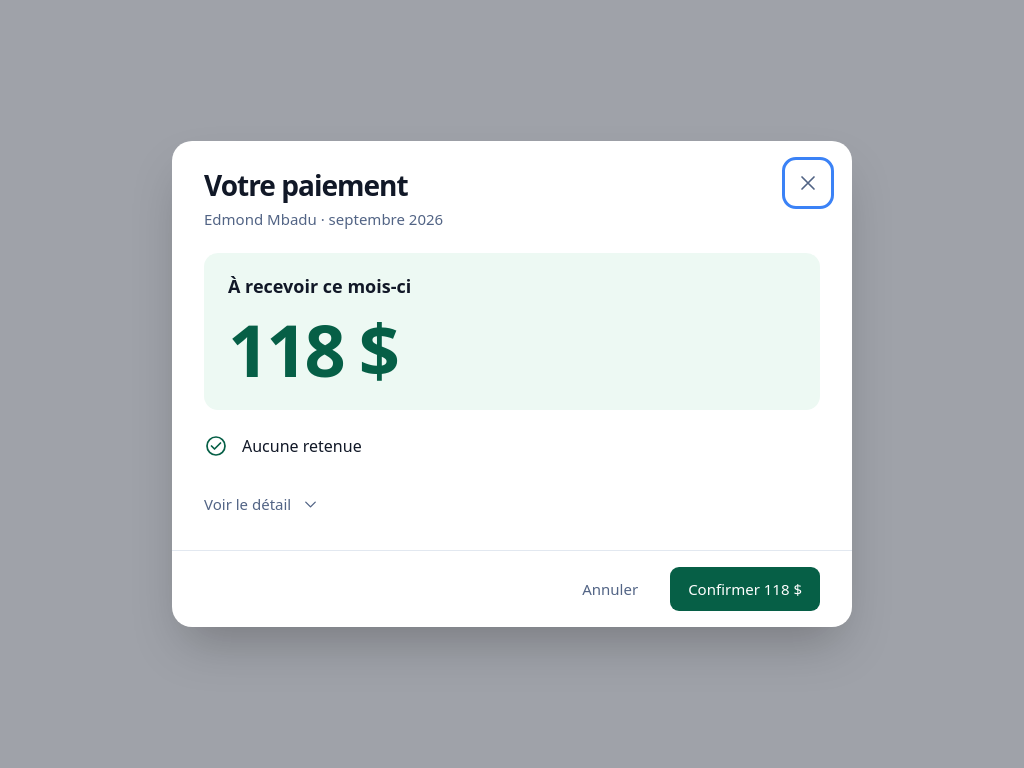
Test: EmployeePaymentDialogComponent › renders the no-deduction state with just the three income components when expanded
This screenshot has width=1024, height=768.
What coordinates should you click on to do the following:
click the button with class "details-toggle"
I would click on:
 (262, 504)
Its box is [204,482,320,526].
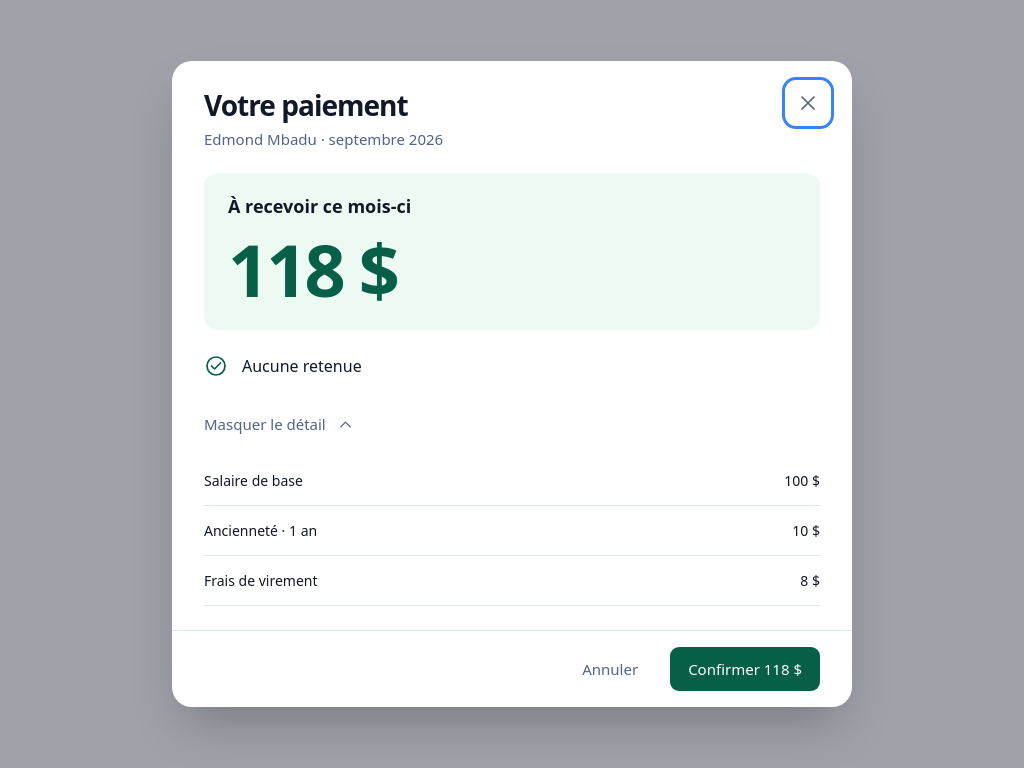
Expected: the button with class "confirm-button" reads "Confirmer 118 $", [670,647,820,691]
Expected: the number of elements with class "detail-row" is 3, [204,456,820,506]; [204,506,820,556]; [204,556,820,606]
